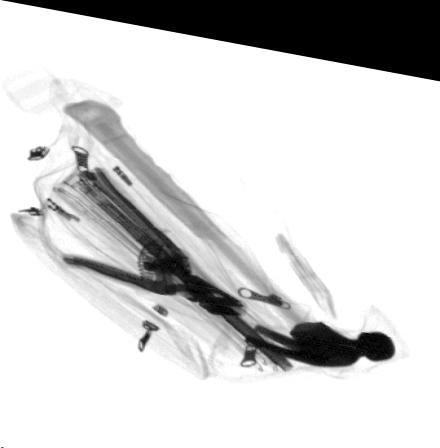Hammer: (61, 97, 397, 356)
Pliers: (61, 161, 250, 308)
